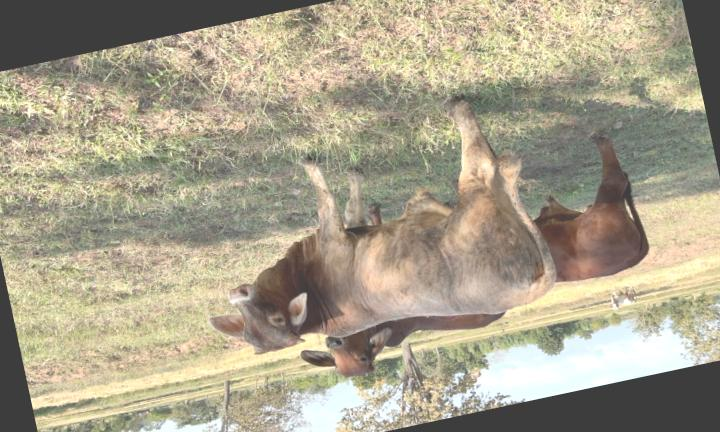Charolais: (208, 98, 556, 354)
